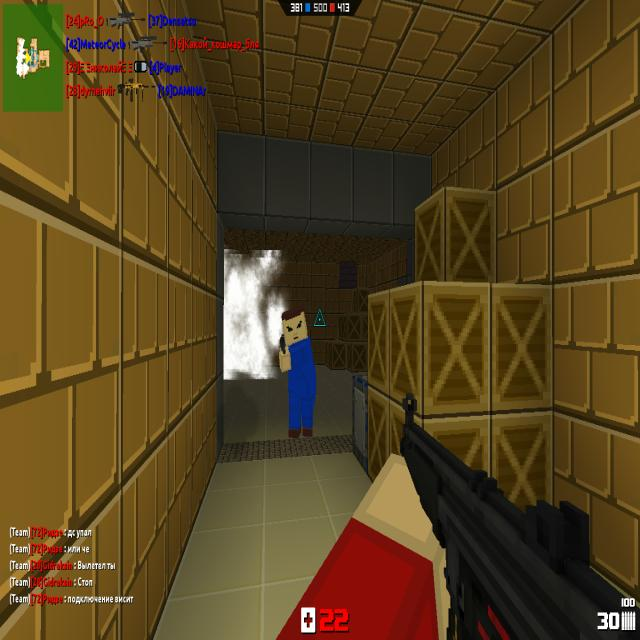enemy: (278, 304, 316, 438)
